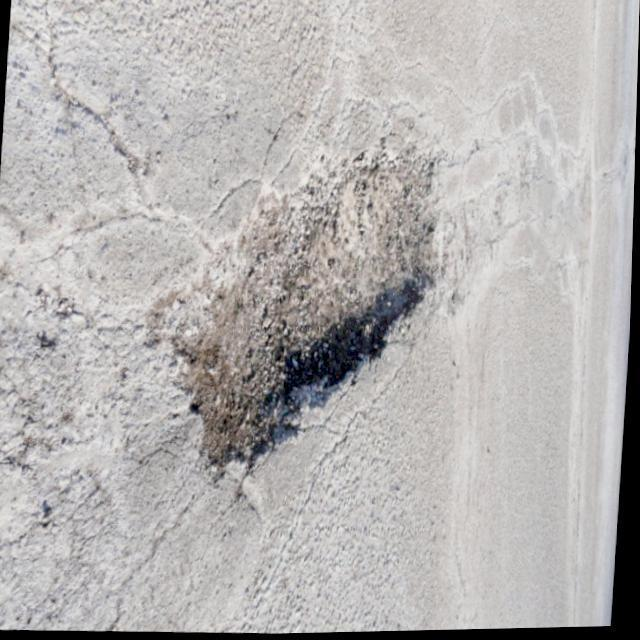Pothole: (156, 145, 461, 501)
